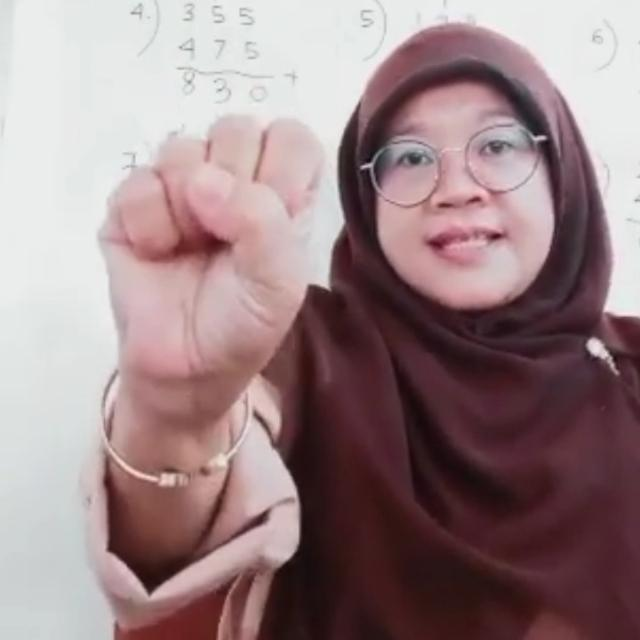S: (94, 102, 332, 388)
